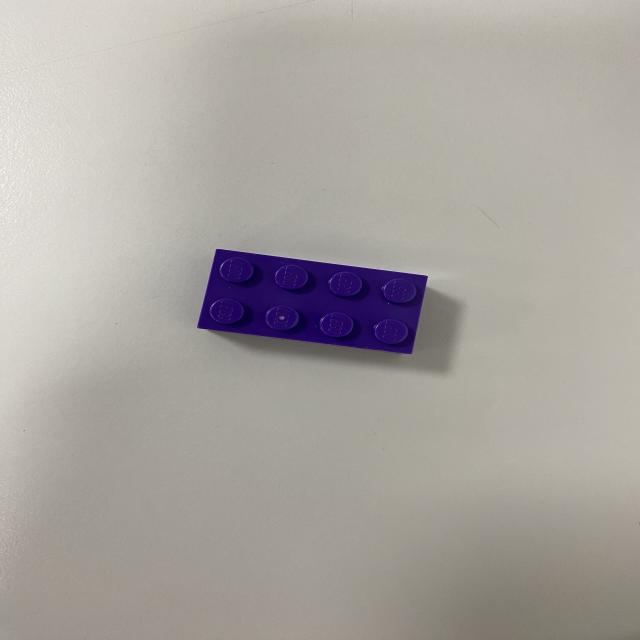C4x2x1: (196, 247, 431, 355)
